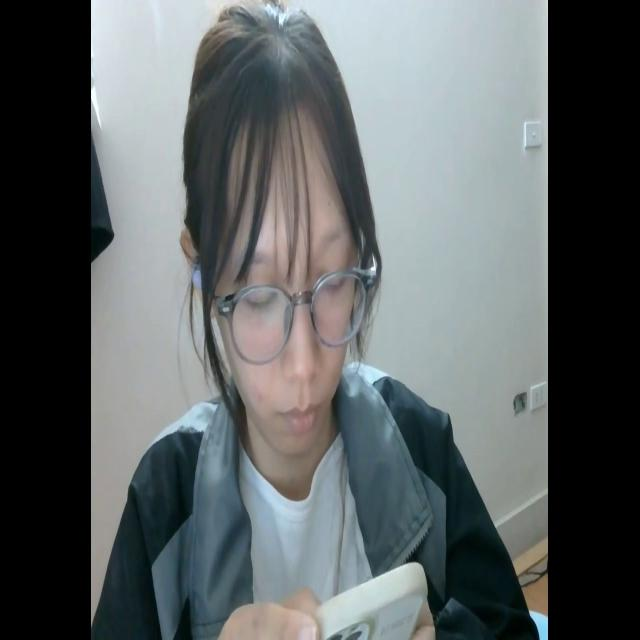phone: (292, 556, 430, 640)
student: (116, 6, 533, 640)
